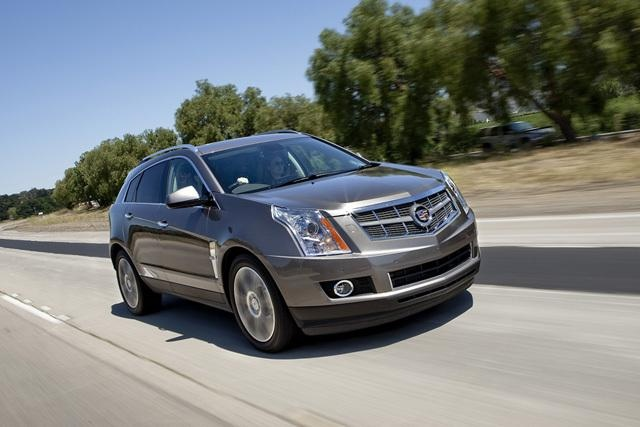car: (74, 107, 517, 353)
